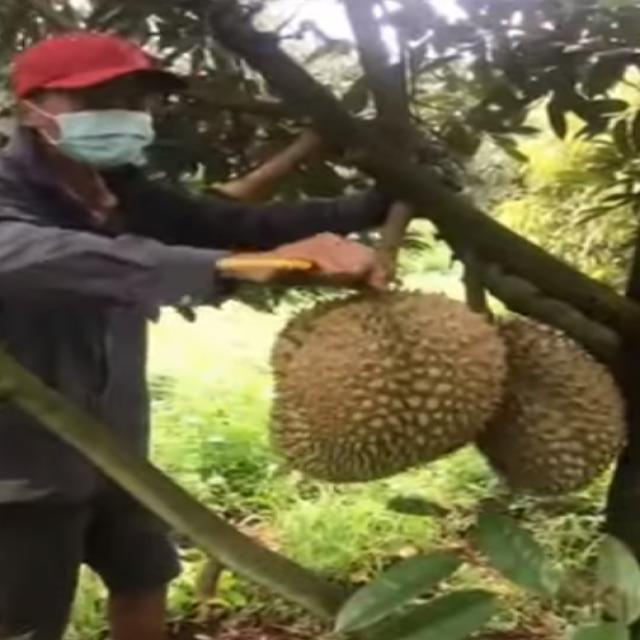mature: (256, 292, 514, 482), (457, 318, 627, 500)
